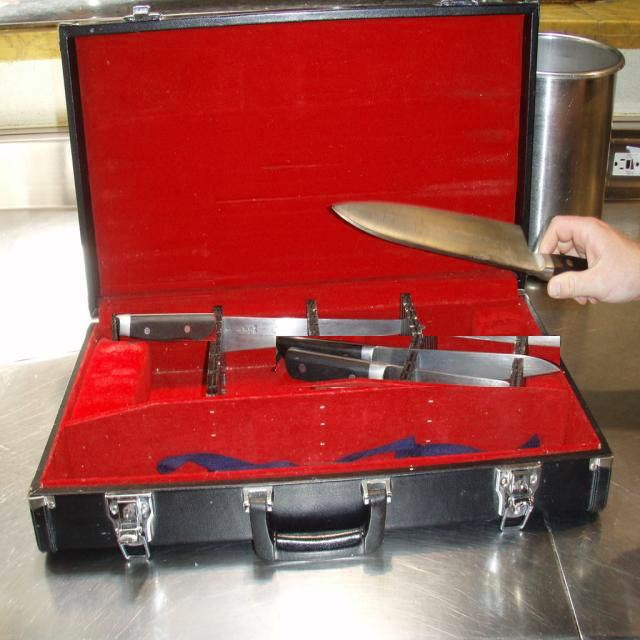Knife: (332, 201, 586, 281), (276, 336, 560, 387), (220, 316, 308, 352), (112, 314, 216, 341), (319, 319, 404, 343)
